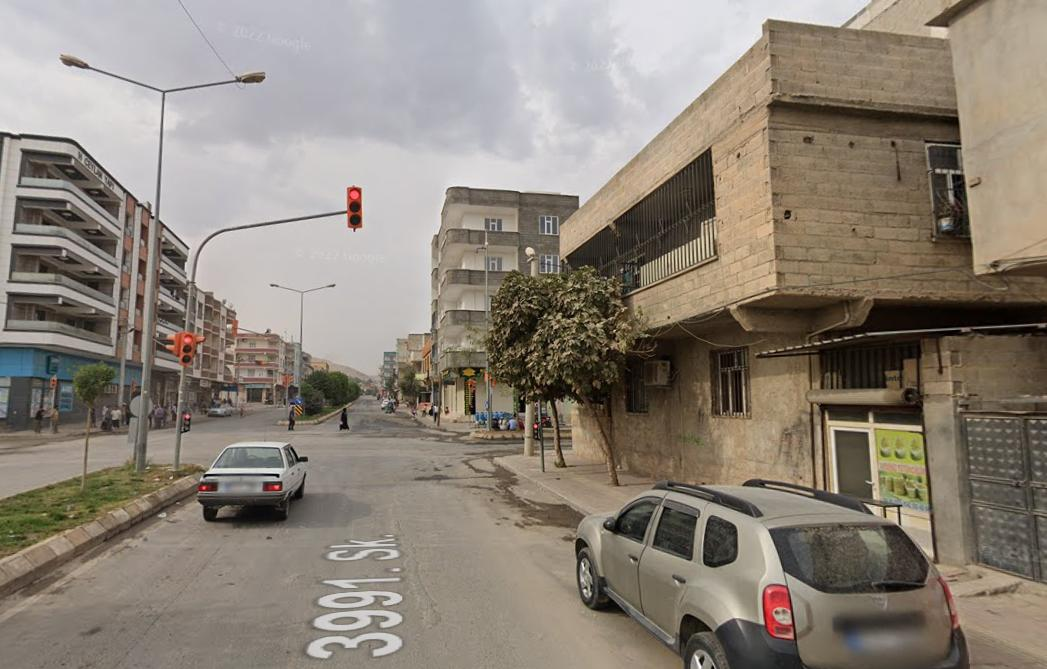redlight: (347, 187, 362, 229), (179, 332, 194, 365)
